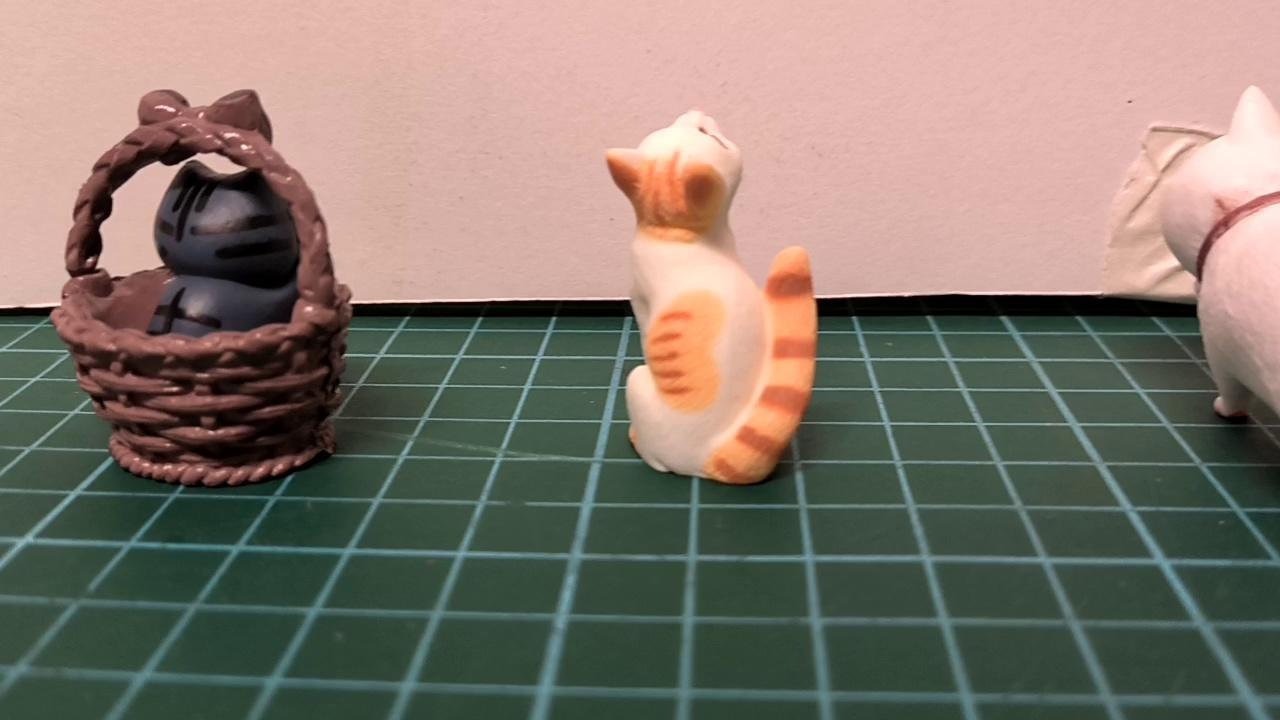pet: (584, 102, 823, 496), (129, 150, 310, 337)
